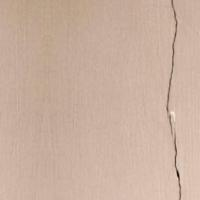crack: (138, 0, 199, 199)
